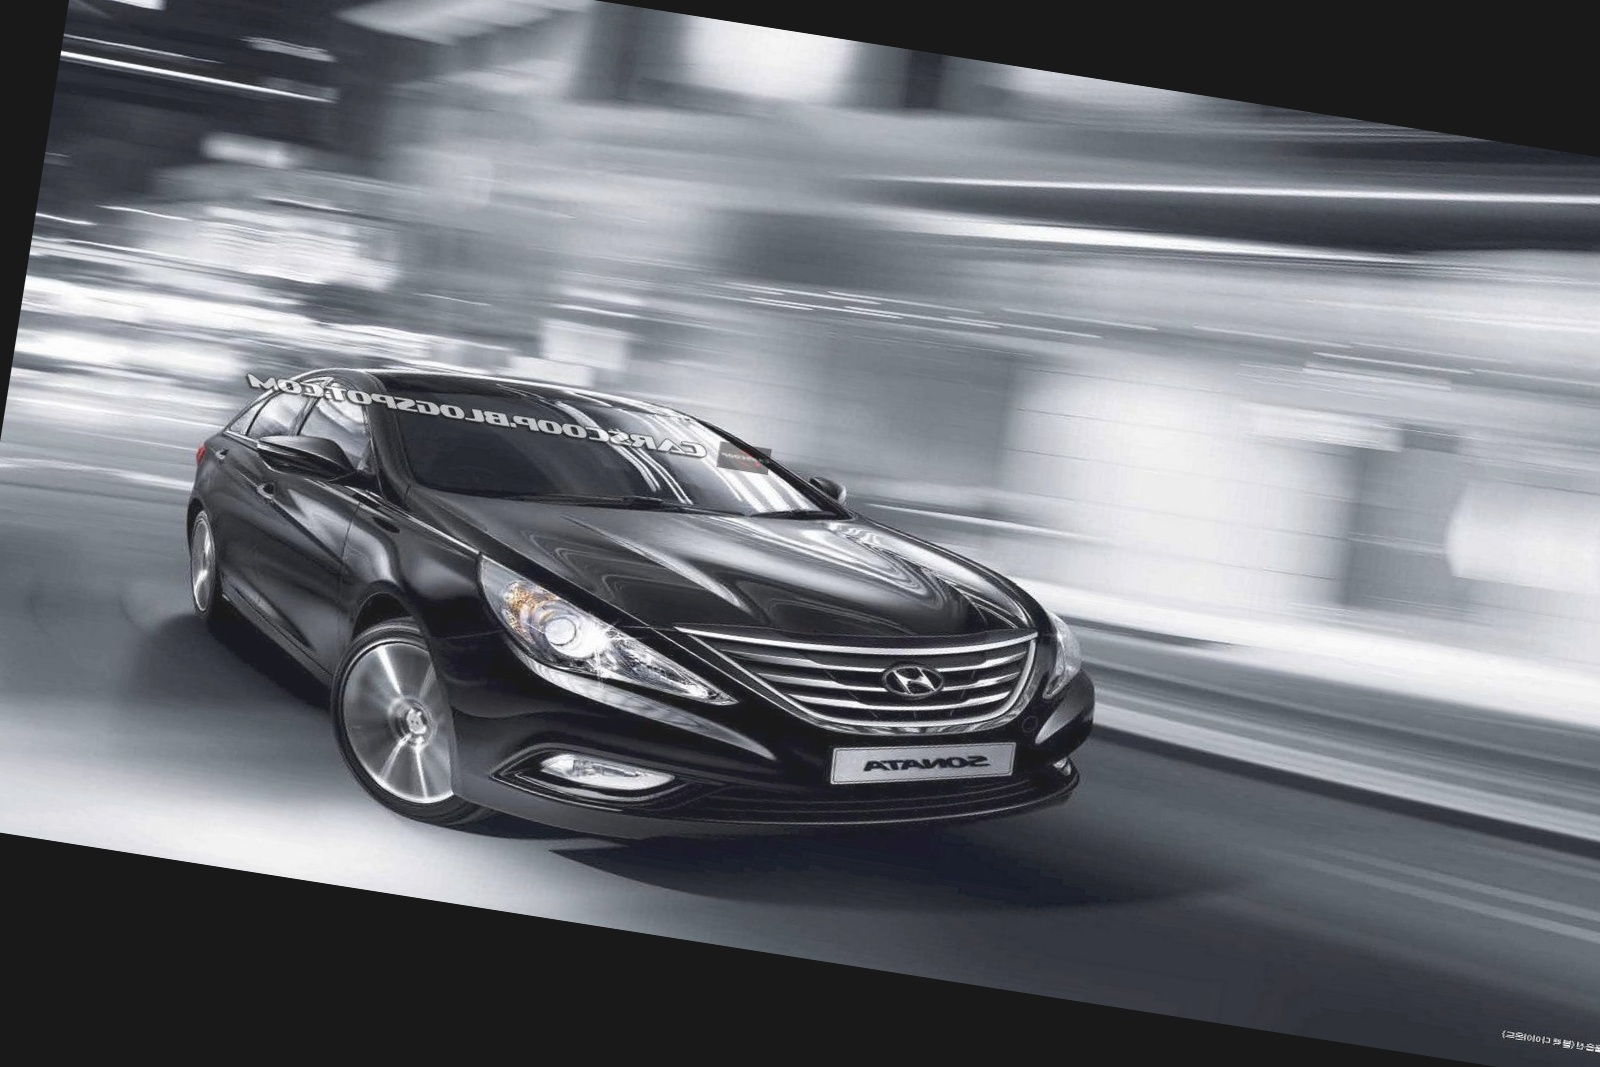car: (26, 274, 1194, 959)
